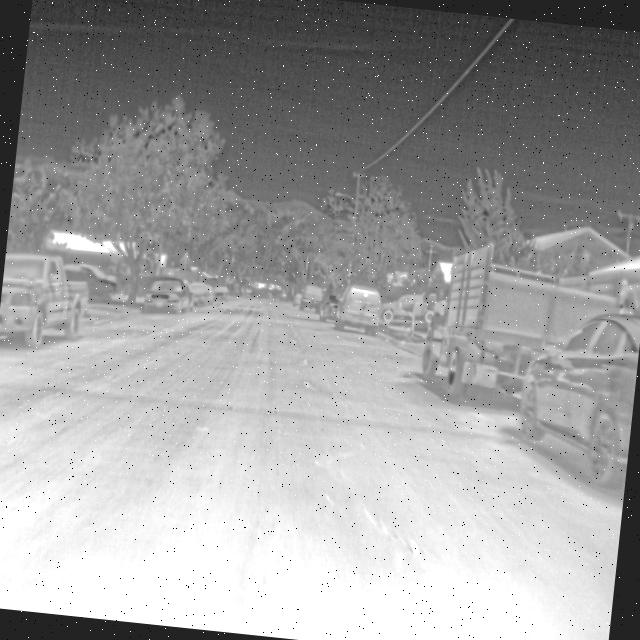Vehicle: (415, 234, 630, 414), (509, 295, 640, 489), (0, 246, 94, 353), (377, 288, 448, 330), (332, 280, 384, 337), (137, 271, 195, 318), (316, 292, 339, 324)
